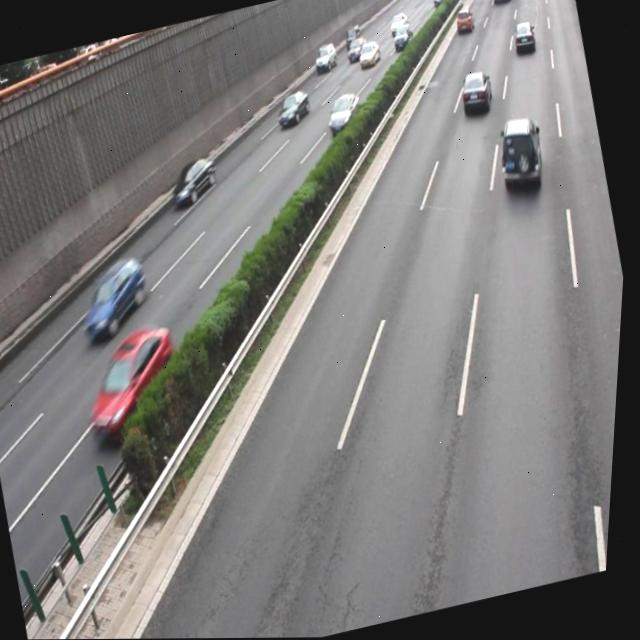car: (75, 320, 196, 444), (72, 252, 159, 343), (491, 113, 550, 189), (166, 153, 222, 209), (454, 68, 498, 119), (322, 89, 365, 135), (273, 88, 315, 129)
